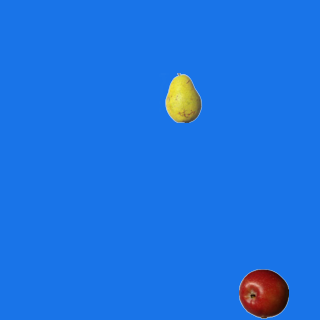Apple Braeburn: (238, 268, 288, 318)
Pear Monster: (158, 72, 208, 122)
